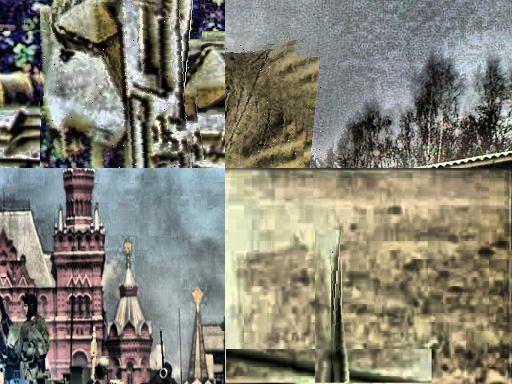tanks: (41, 1, 194, 169), (226, 46, 310, 169), (1, 301, 103, 384), (333, 237, 338, 384), (148, 363, 178, 384)
